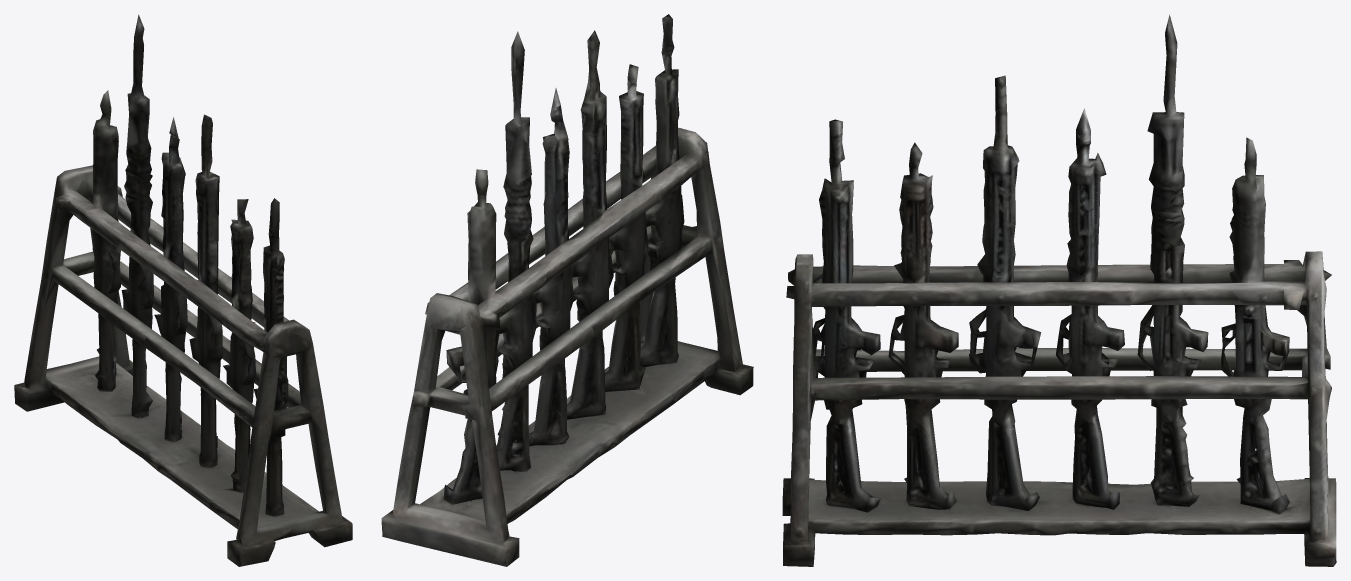
The model's file is xd_gunrack.glb.
The picture shows the model from 3 angles, left to right: view 1: azimuth 30°, elevation 25°; view 2: azimuth 150°, elevation 25°; view 3: azimuth 270°, elevation 25°; orthographic projection. The views are drawn at different scales.
Parts seen in each view (by area): view 1: tripo_node_e38422ba-b106-4992-bd15-c1d2cb7db4fa; view 2: tripo_node_e38422ba-b106-4992-bd15-c1d2cb7db4fa; view 3: tripo_node_e38422ba-b106-4992-bd15-c1d2cb7db4fa.
Part boxes in pixels (box(x1,y1,x2,y2)): tripo_node_e38422ba-b106-4992-bd15-c1d2cb7db4fa: box(14, 14, 352, 566); tripo_node_e38422ba-b106-4992-bd15-c1d2cb7db4fa: box(381, 14, 753, 566); tripo_node_e38422ba-b106-4992-bd15-c1d2cb7db4fa: box(782, 14, 1336, 566).
Bounding box in the file's own units: 0.2784 × 1 × 0.9666.
Materials: 1 (1 with a texture image).
